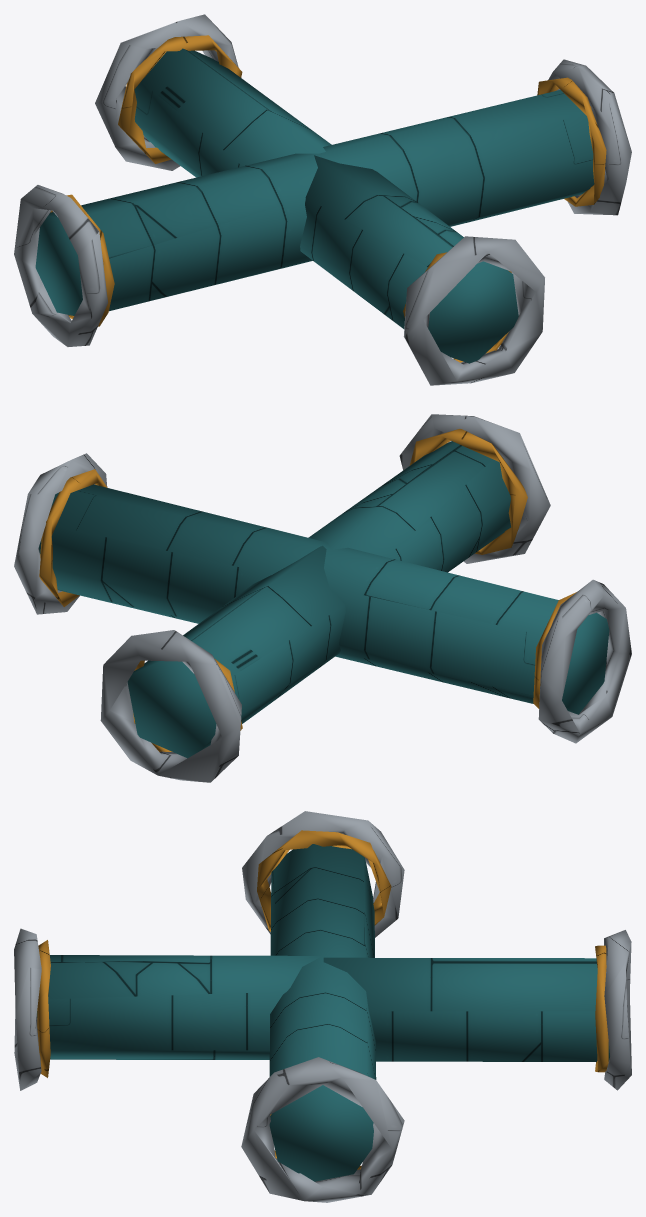
Rendered from pressure_pipe_cross_lod2.glb.
3 views of the same model, one above another, from view 1: azimuth 30°, elevation 25°; view 2: azimuth 150°, elevation 25°; view 3: azimuth 270°, elevation 25° (orthographic). The views are drawn at different scales.
Parts seen in each view (by area): view 1: LOD2_Armor, LOD2_BrushedMetal, LOD2_Livery; view 2: LOD2_Armor, LOD2_BrushedMetal, LOD2_Livery; view 3: LOD2_Armor, LOD2_BrushedMetal, LOD2_Livery.
Part boxes in pixels (box(x1,y1,x2,y2)): LOD2_Armor: box(35, 48, 594, 363); LOD2_BrushedMetal: box(14, 14, 631, 385); LOD2_Livery: box(50, 35, 606, 362); LOD2_Armor: box(38, 441, 609, 758); LOD2_BrushedMetal: box(14, 414, 631, 782); LOD2_Livery: box(39, 429, 576, 751); LOD2_Armor: box(37, 844, 609, 1181); LOD2_BrushedMetal: box(14, 811, 631, 1202); LOD2_Livery: box(37, 830, 608, 1169).
Bounding box in the file's own units: 4.2 × 1.11 × 4.19.
Materials: 3 (3 with a texture image).
